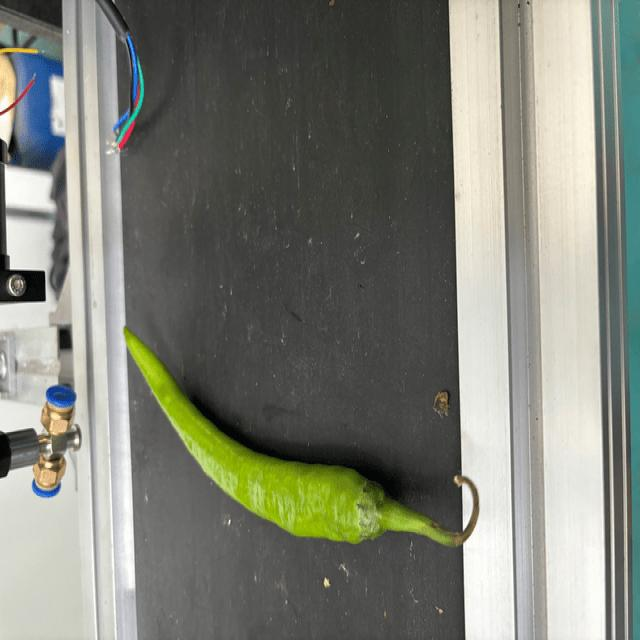chili: (120, 321, 391, 547)
